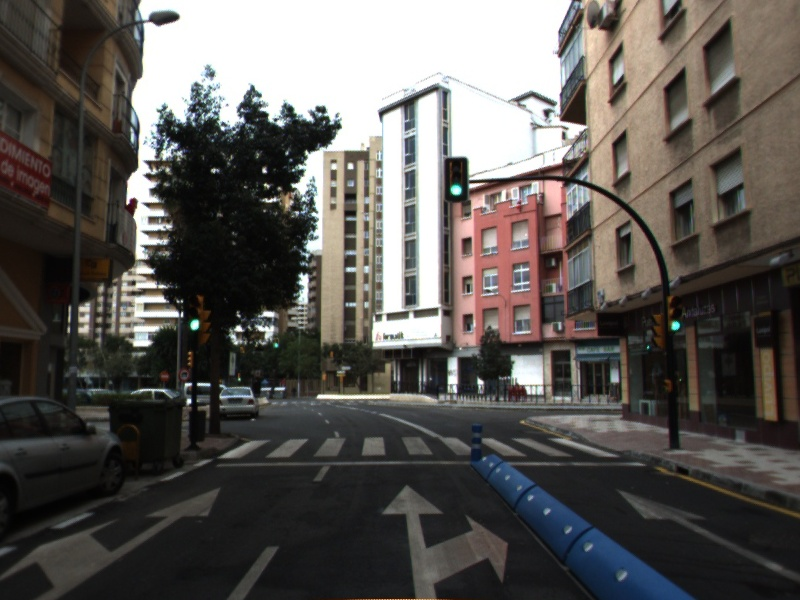STRAIGHT: (609, 483, 800, 580)
STRAIGHT_LEFT: (1, 482, 225, 600)
STRAIGHT_RIGHT: (377, 481, 512, 600)
